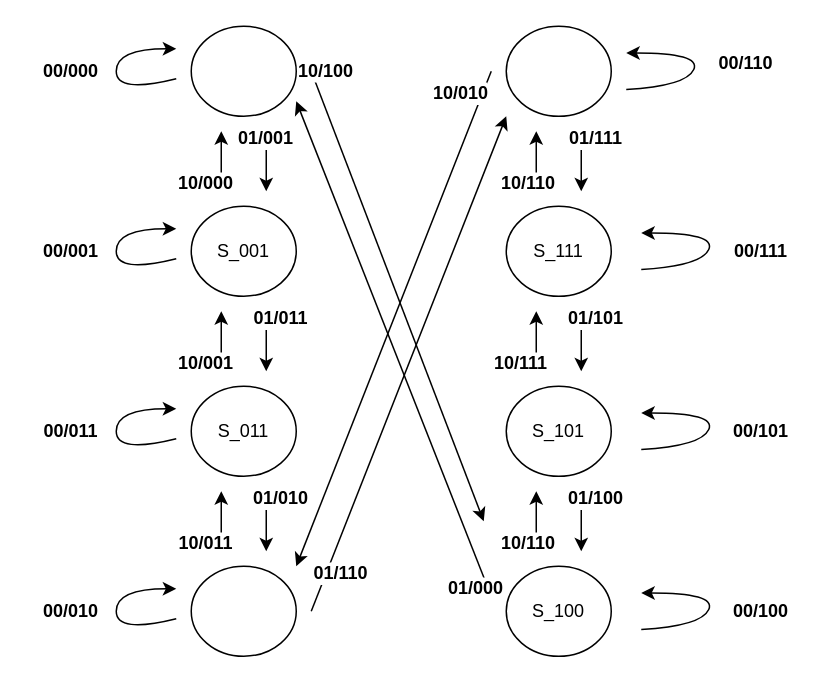
This 831x683 diagram has some shape labels left out. Each missing label, with the box of its shape:
S_000: (190, 25, 296, 116)
S_010: (190, 565, 296, 656)
S_110: (505, 25, 611, 116)
